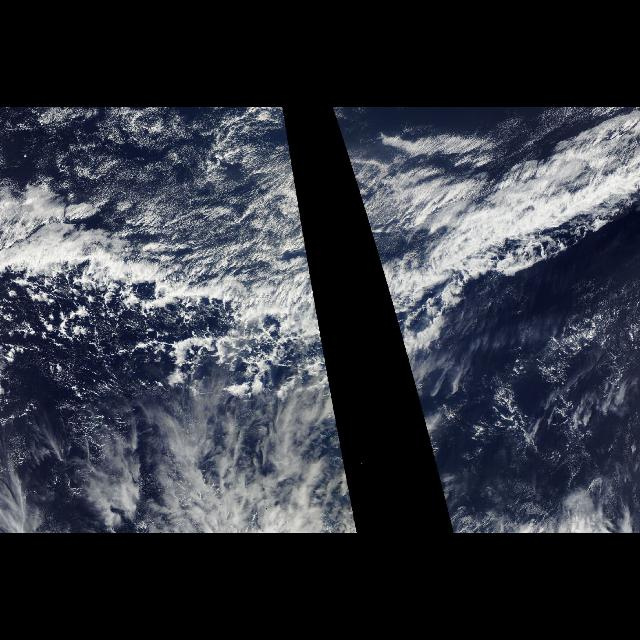Fish: (1, 138, 326, 352), (342, 138, 638, 352)
Gravel: (2, 286, 236, 386)
Sugar: (37, 112, 296, 268)
